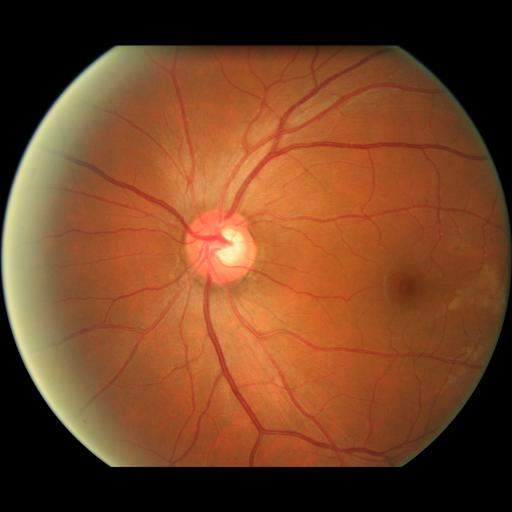Optic Cup: (213, 228, 245, 267)
Optic Disc: (185, 209, 256, 285)
